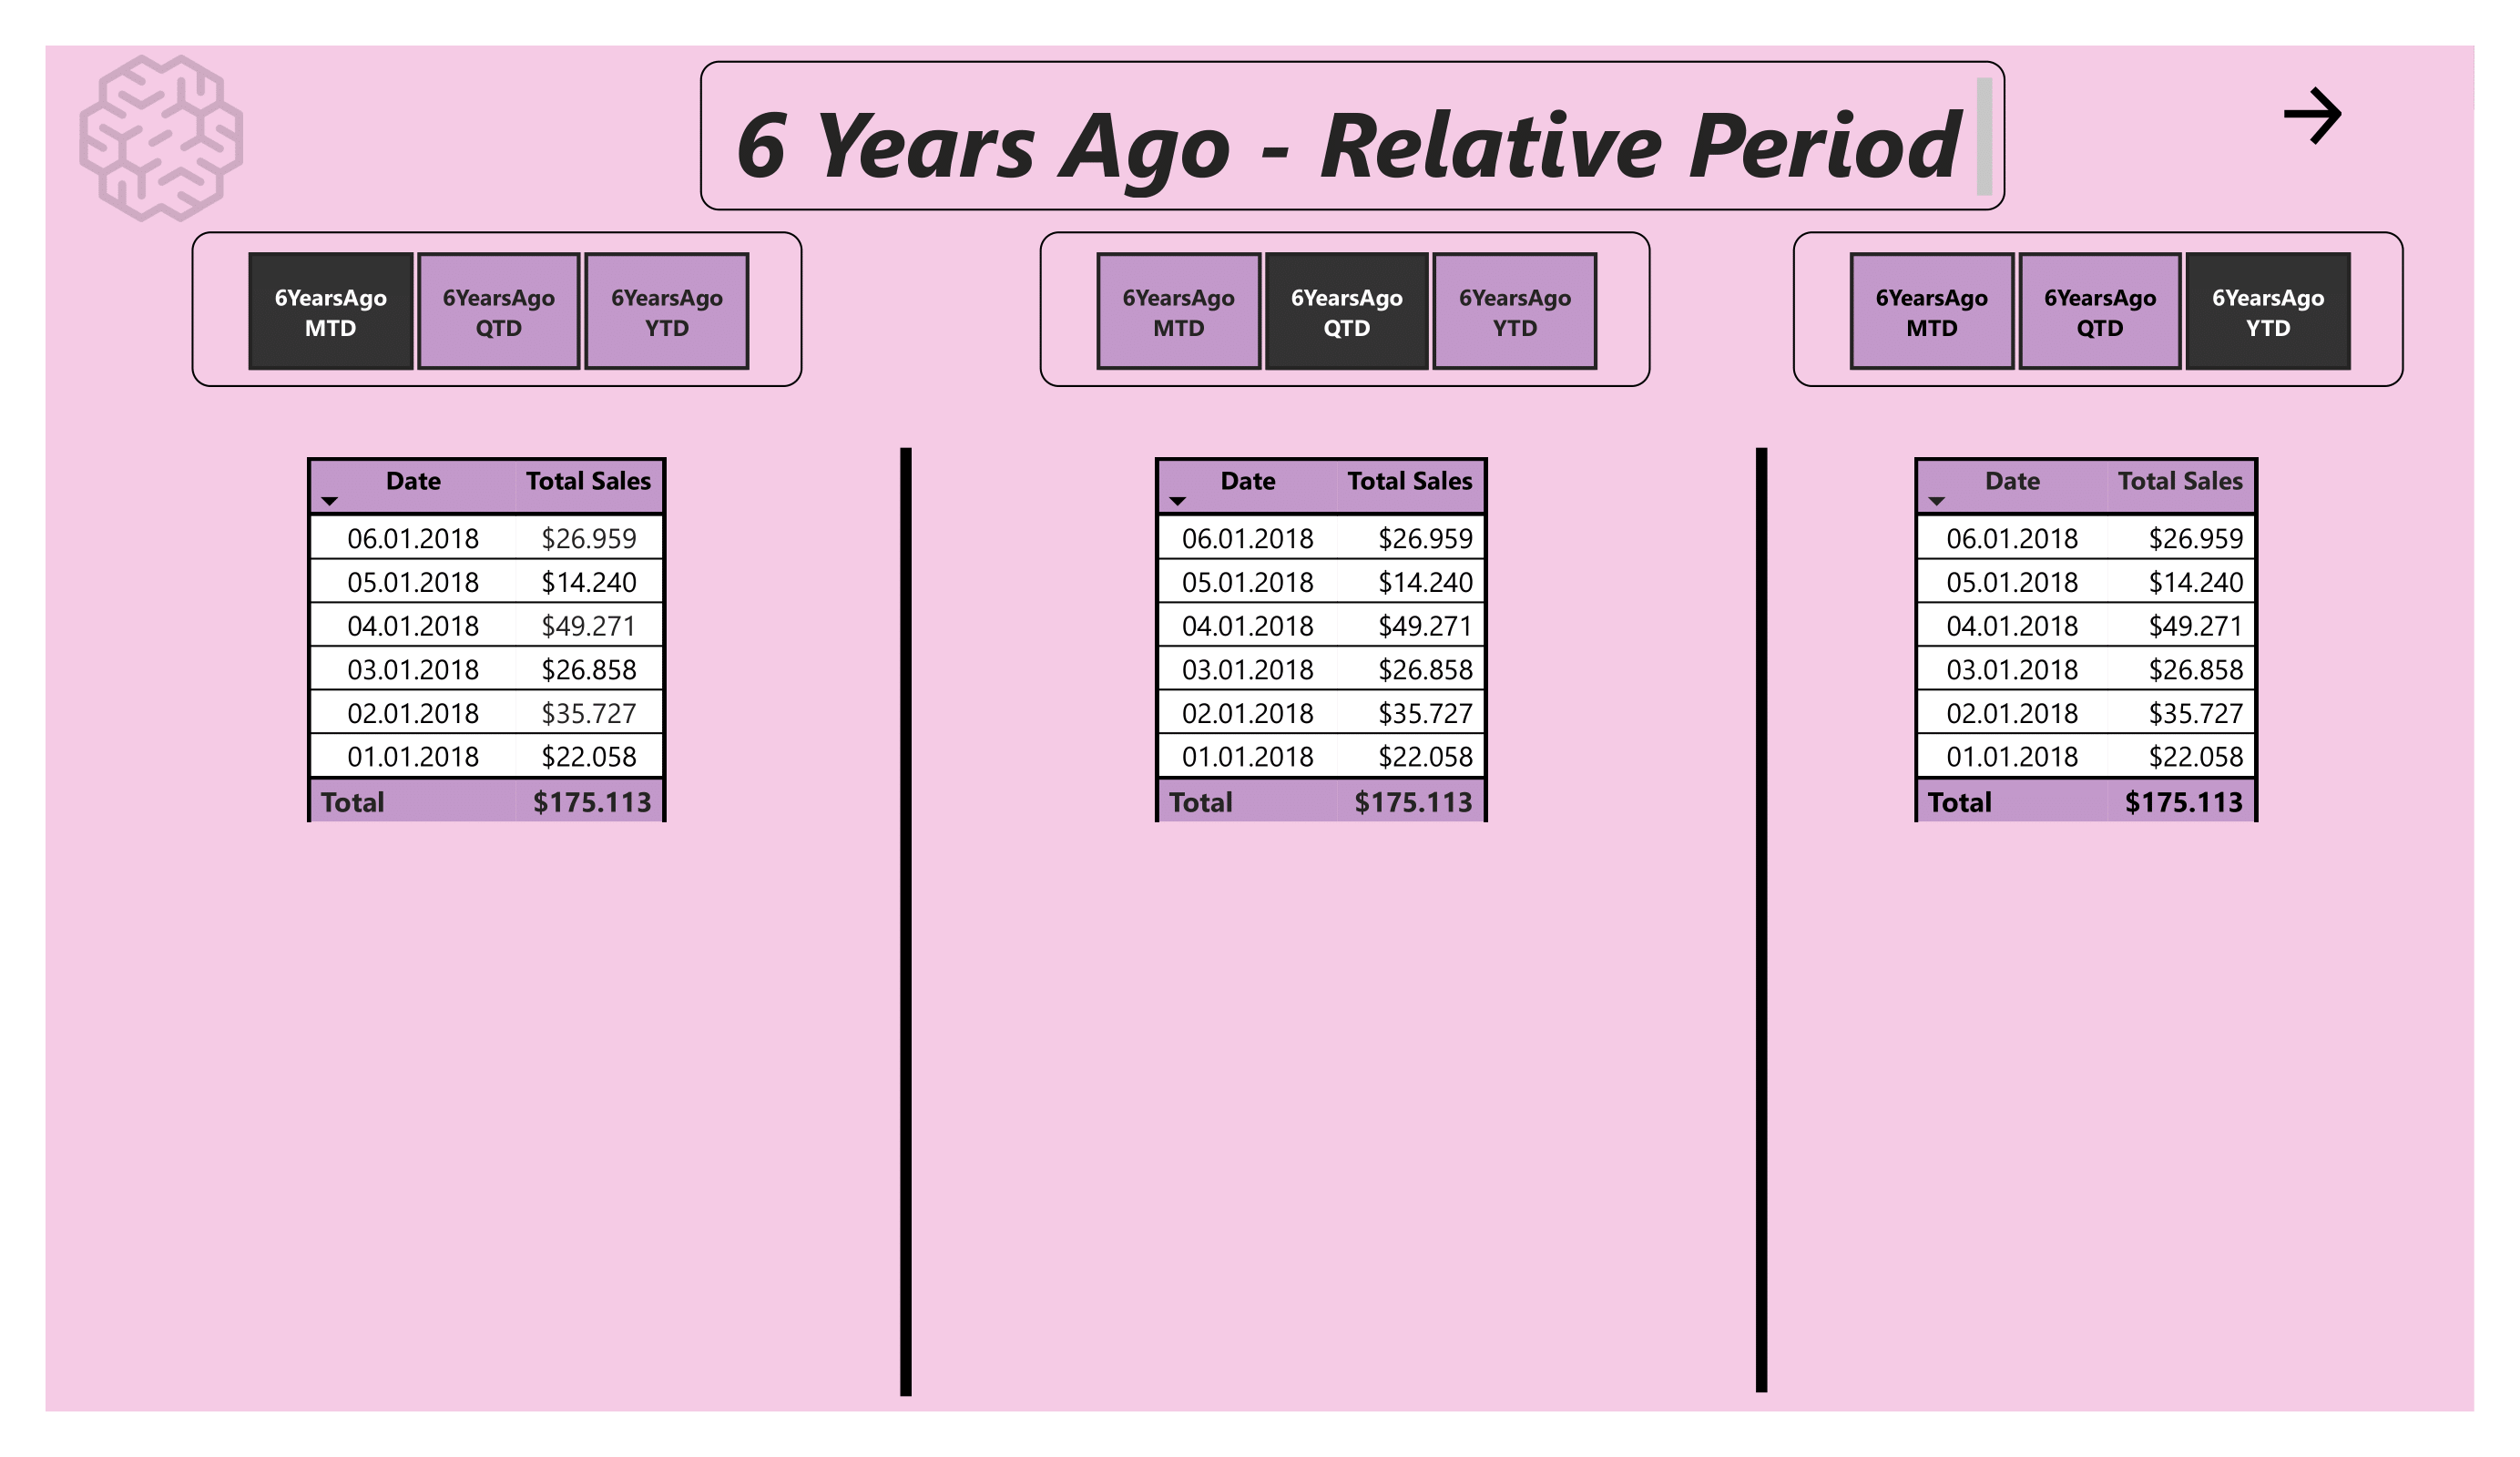

The page's visual inventory and layout, read from the dashboard file:
{"tool":"powerbi","page":{"name":"6 Years Ago - relative period","canvas":[1280,720],"ordinal":0},"visuals":[{"type":"tableEx","fields":{"Values":["Dates.Date","Key Measures.Total Sales"]},"box":[131.9,211.7,212.5,498.8],"z":0},{"type":"textbox","box":[344.6,7.8,688.2,78.8],"z":1000},{"type":"image","box":[0,0,120.6,98],"z":2000},{"type":"tableEx","fields":{"Values":["Dates.Date","Key Measures.Total Sales"]},"box":[578.6,211.7,213.4,498.8],"z":3000},{"type":"shape","box":[432,211.7,43.4,500.5],"z":4000},{"type":"shape","box":[884,211.7,40.8,498.8],"z":5000},{"type":"tableEx","fields":{"Values":["Dates.Date","Key Measures.Total Sales"]},"box":[979.4,211.7,212.5,498.8],"z":6000},{"type":"slicer","fields":{"Values":["Relative Period 6 Years Ago.Period"]},"box":[77.2,98,321.8,82.4],"z":7000},{"type":"slicer","fields":{"Values":["Relative Period 6 Years Ago.Period"]},"box":[524,98,321.8,82.4],"z":8000},{"type":"slicer","fields":{"Values":["Relative Period 6 Years Ago.Period"]},"box":[921.3,98,321.8,82.4],"z":9000},{"type":"actionButton","box":[1143.5,16.7,100.2,40.3],"z":10000}]}

Visuals, with their boxes in screenshot pixels (x1, y1, x2, y2):
tableEx - Dates.Date x Key Measures.Total Sales: left=296, top=447, right=699, bottom=1393
textbox: left=699, top=60, right=2005, bottom=209
image: left=46, top=46, right=274, bottom=231
tableEx - Dates.Date x Key Measures.Total Sales: left=1144, top=447, right=1548, bottom=1393
shape: left=865, top=447, right=948, bottom=1397
shape: left=1723, top=447, right=1801, bottom=1393
tableEx - Dates.Date x Key Measures.Total Sales: left=1904, top=447, right=2307, bottom=1393
slicer - Relative Period 6 Years Ago.Period: left=192, top=231, right=802, bottom=388
slicer - Relative Period 6 Years Ago.Period: left=1040, top=231, right=1650, bottom=388
slicer - Relative Period 6 Years Ago.Period: left=1794, top=231, right=2404, bottom=388
actionButton: left=2216, top=77, right=2405, bottom=154
